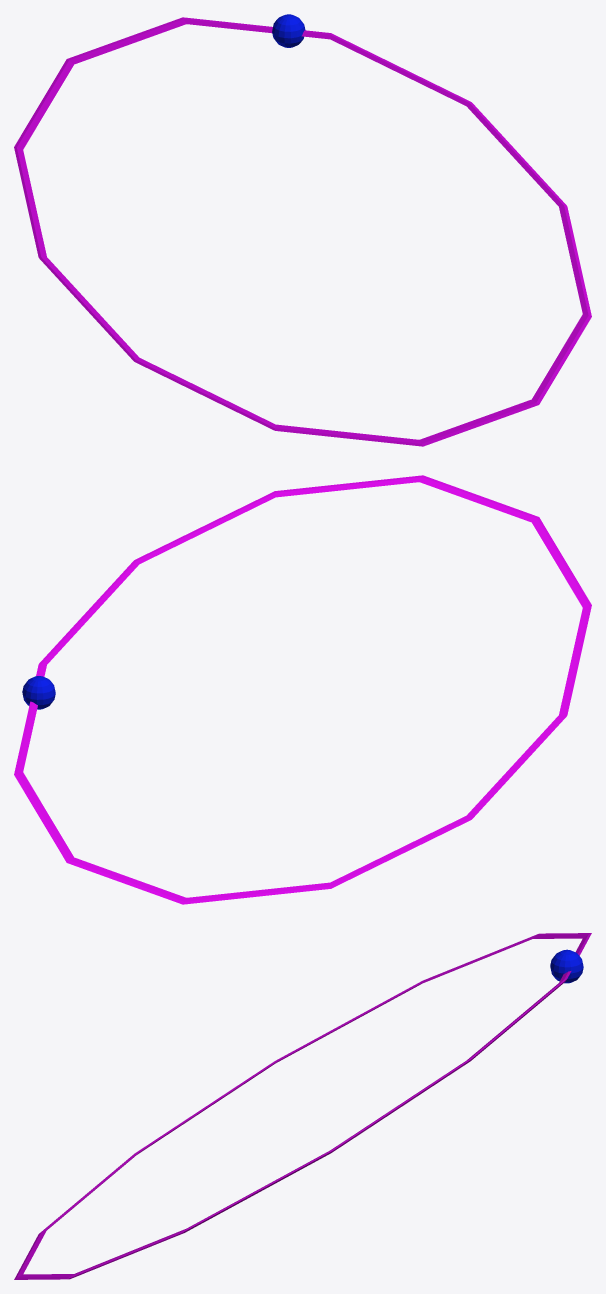
File: Mars.fbx
The picture shows the model from 3 angles, top to bottom: view 1: azimuth 30°, elevation 25°; view 2: azimuth 150°, elevation 25°; view 3: azimuth 330°, elevation 25°; orthographic projection.
Visible parts, largest first — view 1: 4.-MArsOrbit, 4.-Mars; view 2: 4.-MArsOrbit, 4.-Mars; view 3: 4.-MArsOrbit, 4.-Mars.
Part boxes in pixels (<box>): 4.-MArsOrbit: <box>14,17,591,446</box>; 4.-Mars: <box>272,14,305,47</box>; 4.-MArsOrbit: <box>14,475,591,904</box>; 4.-Mars: <box>22,676,55,709</box>; 4.-MArsOrbit: <box>14,933,591,1279</box>; 4.-Mars: <box>550,949,583,983</box>.
Bounding box in the file's own units: 139 × 69.76 × 336.
